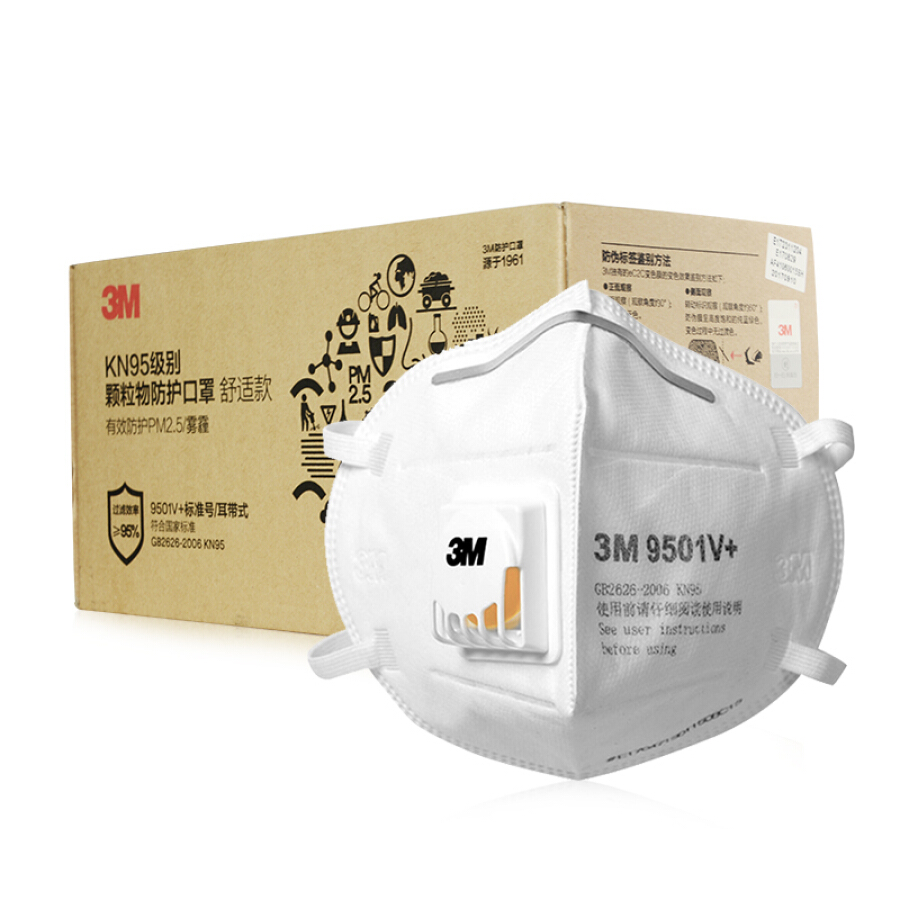3M: (95, 275, 147, 327), (592, 524, 644, 569), (440, 531, 489, 574)
